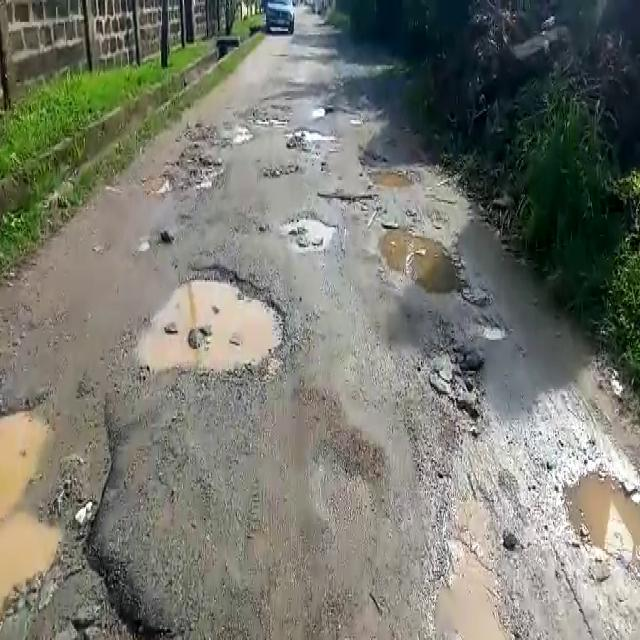Pothole: (0, 392, 106, 608), (137, 258, 290, 387), (561, 460, 640, 578), (376, 226, 466, 299), (416, 340, 484, 431), (140, 145, 225, 201), (281, 212, 335, 253), (318, 187, 382, 212), (365, 168, 418, 192), (285, 127, 321, 152), (260, 162, 306, 178)
